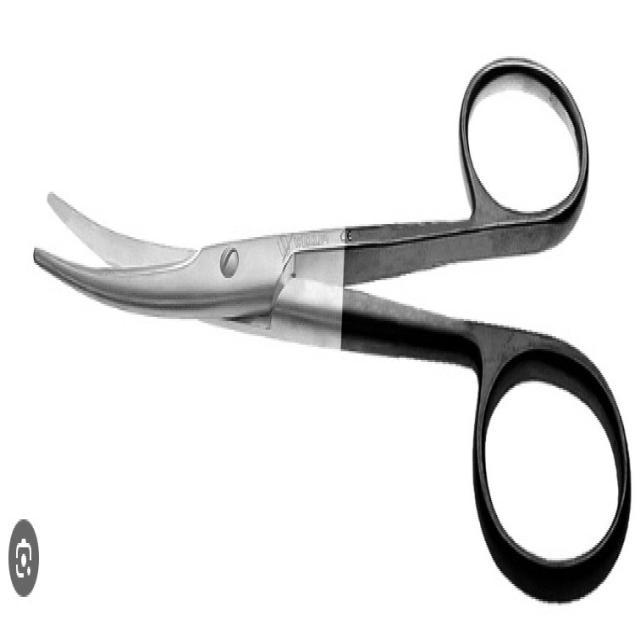Curved Mayo: (32, 55, 633, 612)
